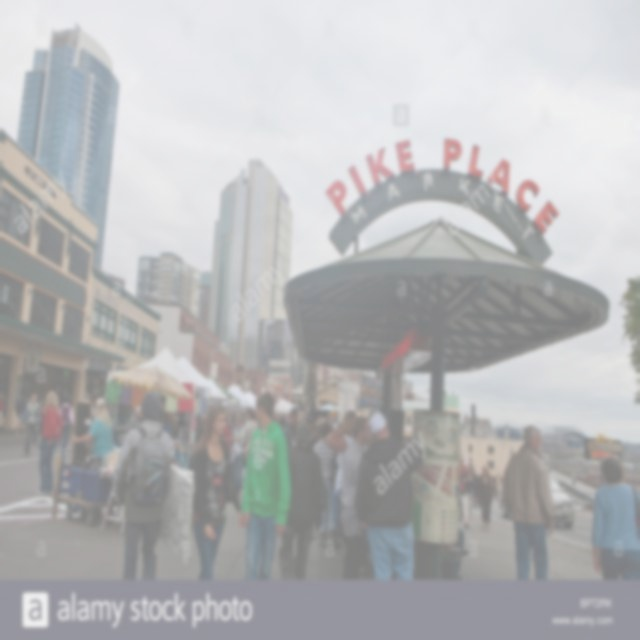pessoa: (352, 410, 425, 580), (111, 392, 176, 580), (238, 391, 294, 581), (192, 404, 245, 580), (501, 423, 558, 581), (324, 409, 369, 574), (279, 424, 324, 580), (592, 454, 640, 580), (339, 416, 374, 582), (311, 420, 343, 551), (34, 388, 64, 497), (69, 396, 117, 461), (159, 401, 208, 446), (474, 462, 500, 532), (19, 390, 42, 458), (225, 400, 238, 504), (459, 464, 479, 530), (240, 406, 259, 474), (308, 406, 344, 440), (59, 394, 74, 458), (233, 417, 245, 496), (272, 405, 309, 429), (282, 408, 298, 462), (456, 455, 468, 522), (14, 392, 28, 435), (237, 407, 260, 432), (105, 404, 117, 446), (81, 391, 96, 418), (128, 404, 142, 432), (38, 398, 46, 438), (364, 420, 374, 450), (0, 391, 6, 422)
